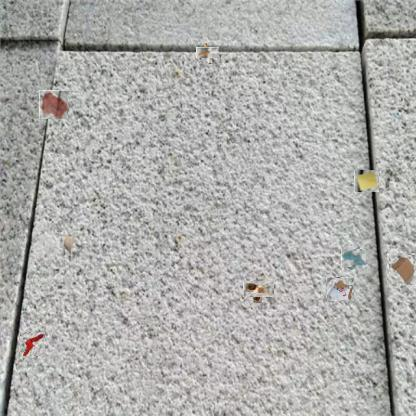dirty: (388, 254, 416, 286), (326, 277, 354, 301), (19, 332, 45, 356), (247, 278, 271, 301), (354, 170, 379, 192), (199, 44, 216, 61), (62, 234, 76, 254)
liquid: (39, 90, 68, 119), (343, 248, 364, 269)
